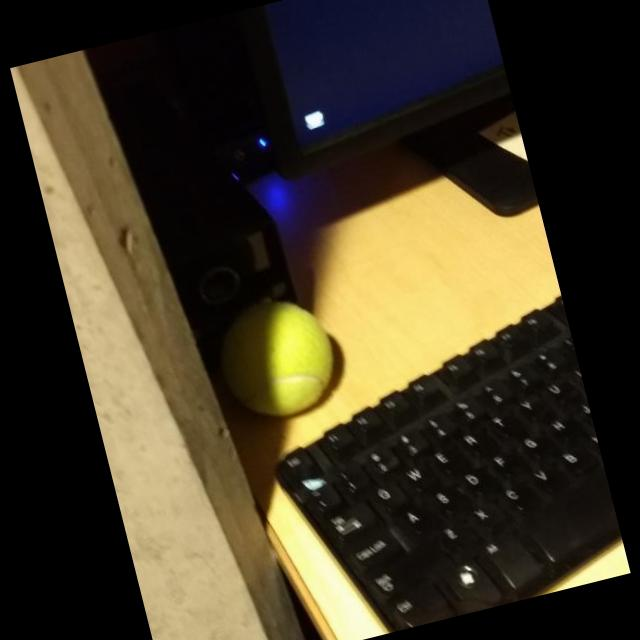tennis-ball: (200, 286, 352, 434)
